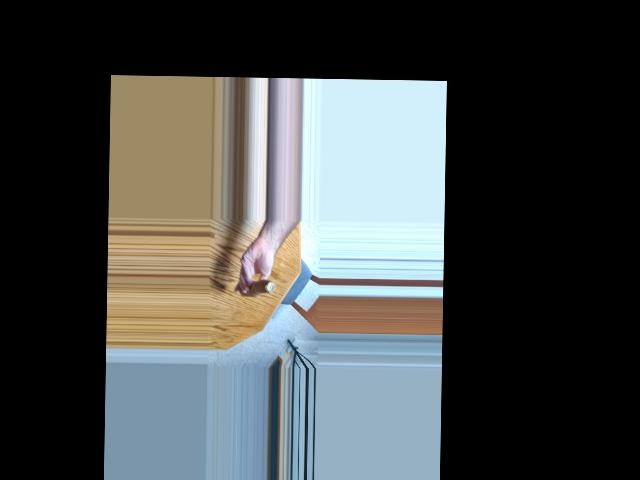sweet_potato: (237, 270, 280, 299)
